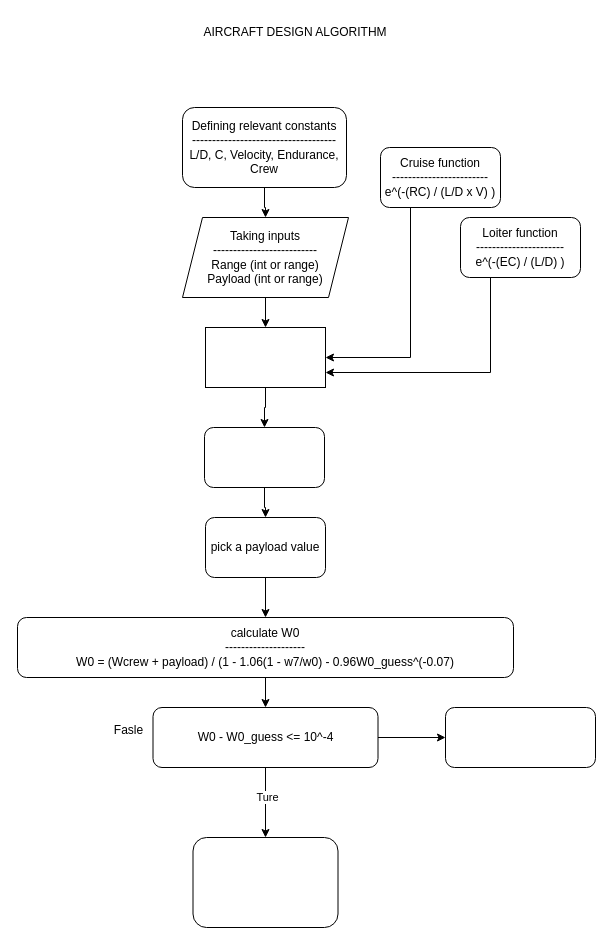
Image size: 613x945. Some labels were removed from this diagram. The centre of each missing label's shape, as x and y in pixels:
Calculate W7/W0: (x=265, y=357)
pick a range value: (x=264, y=457)
Save data -------------------- range payload Take-off weight: (x=265, y=882)
Set new W0_guess ------------------------- 0.5(W0+W0_guess): (x=520, y=737)
